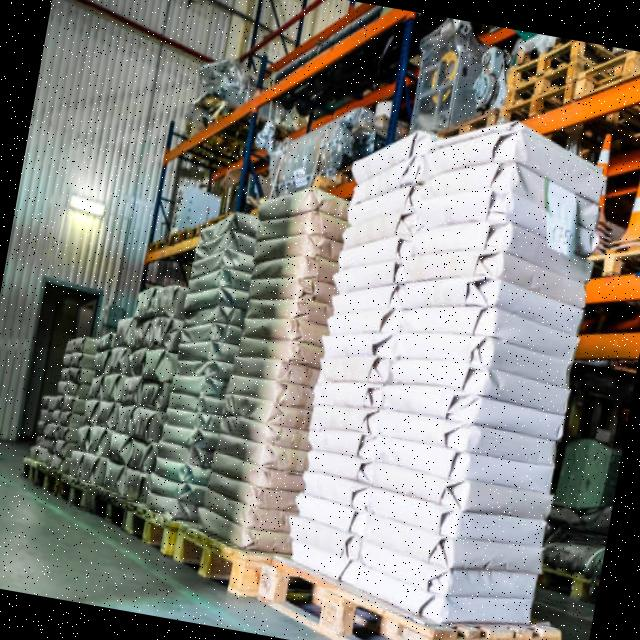Wooden-Pallets: (17, 457, 567, 640), (255, 551, 561, 640), (165, 509, 257, 603), (118, 498, 177, 571), (89, 483, 136, 534), (56, 471, 96, 518), (29, 462, 60, 505), (16, 456, 42, 493)
